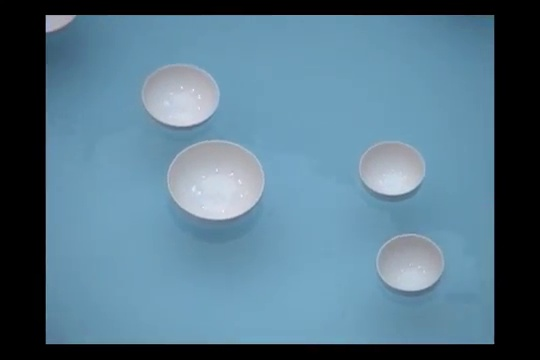bowl: (167, 139, 264, 227), (142, 63, 220, 131), (376, 234, 445, 297), (358, 141, 424, 203), (46, 15, 76, 39)
